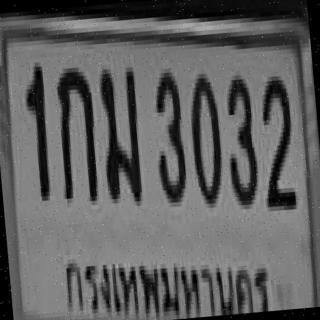A01: (52, 62, 98, 199)
A33: (95, 60, 142, 202)
N00: (185, 68, 224, 204)
N01: (21, 60, 52, 200)
N02: (254, 71, 296, 207)
N03: (148, 68, 188, 204), (220, 70, 259, 206)
P04: (58, 226, 276, 320)
